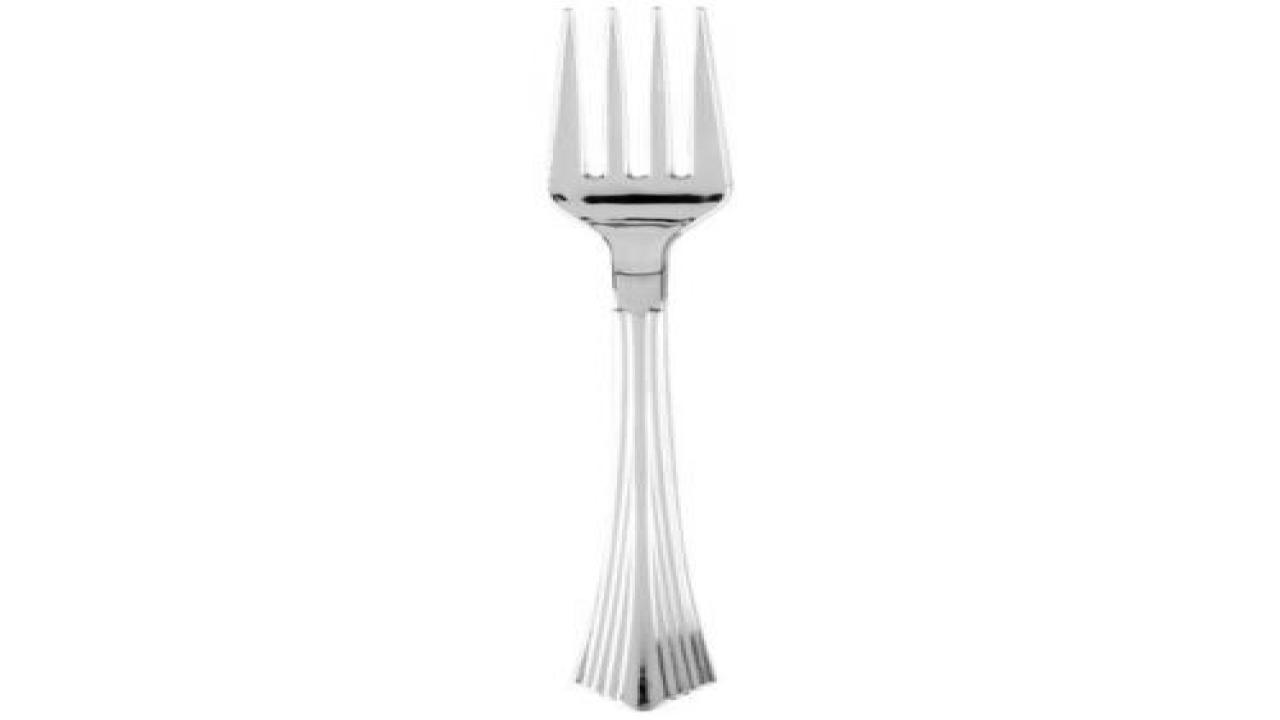fork: (543, 3, 732, 710)
